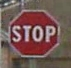stop: (7, 7, 61, 57)
